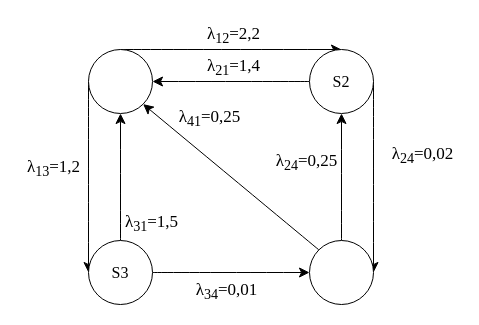
Some shapes in this 479 by 325 pixel diagram are drawn without their labels. Each missing label, with the box of its shape:
S1: (88, 48, 152, 114)
S4: (308, 240, 374, 304)
